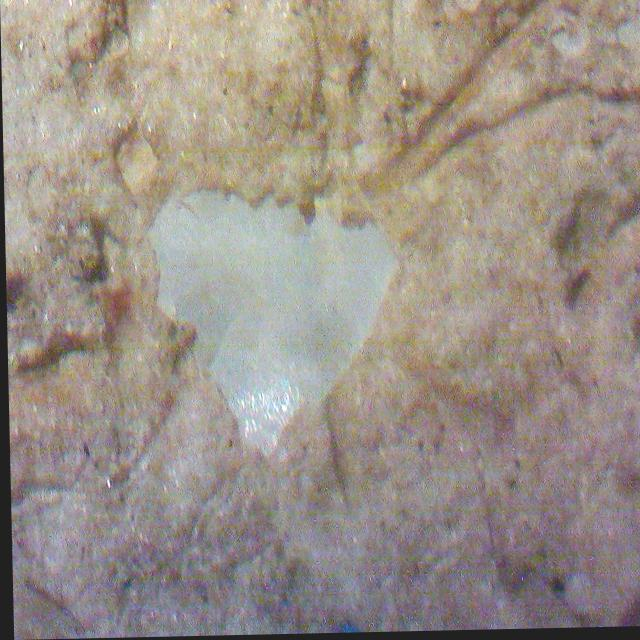microplastic: (146, 188, 398, 457)
